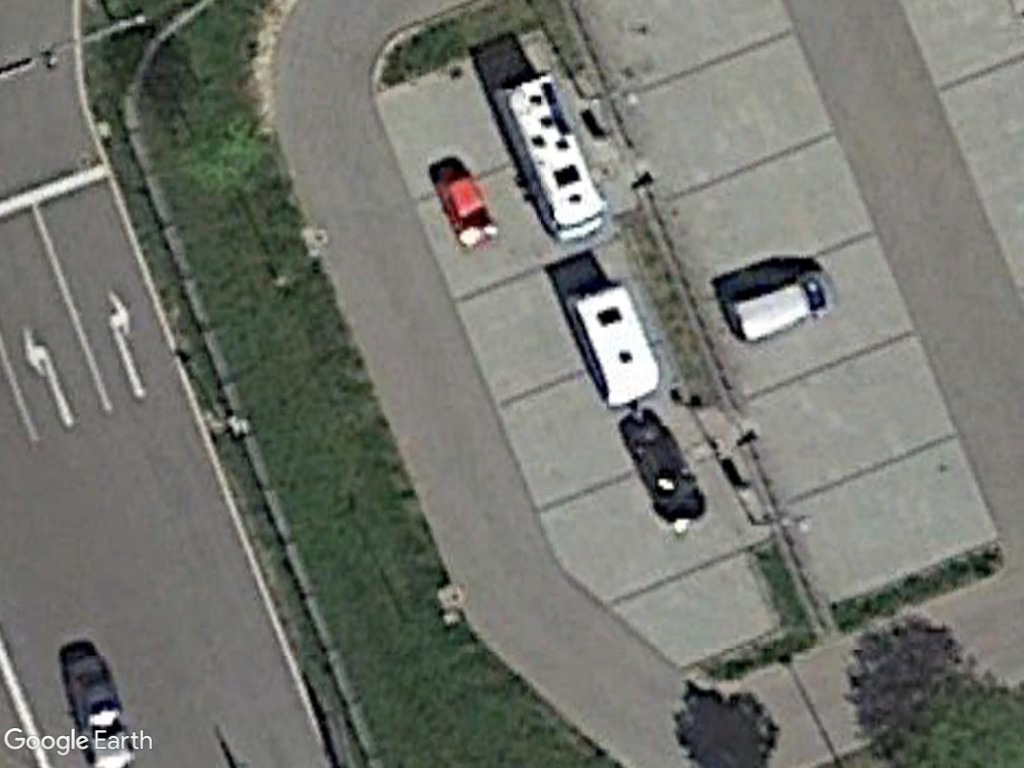bus: (492, 69, 605, 247)
van: (726, 266, 845, 346)
